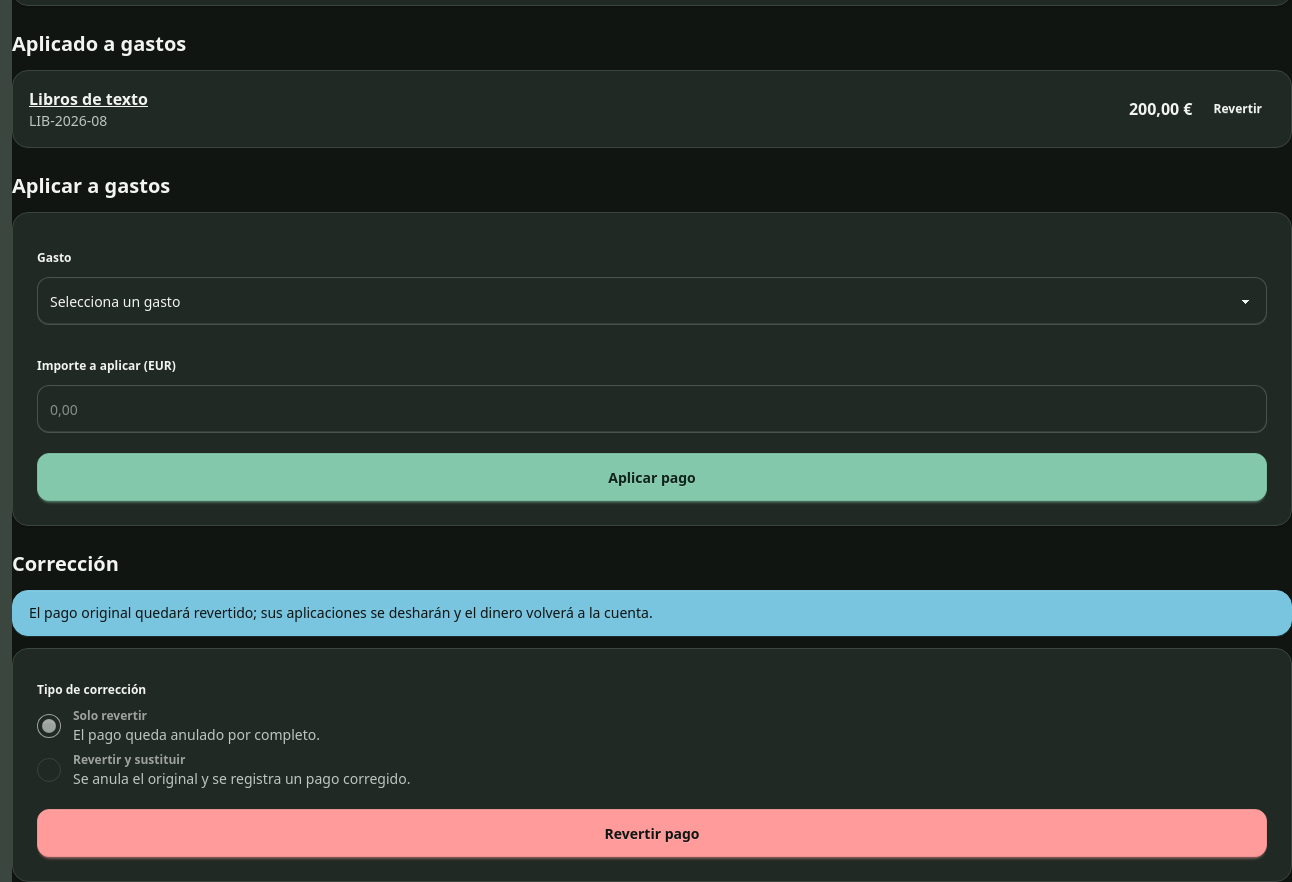
Test case: PaymentDetailPage › reveals account, date, and amount inputs in replace mode
(page scrolled)
Check: the field labelled "Cuenta del pago" is not shown
Check: the field labelled "Fecha del pago" is not shown
Click the radio button labelled "Revertir y sustituir" at coordinates (49, 770), box top-left (37, 758), bottom-right (61, 782)
(page scrolled)
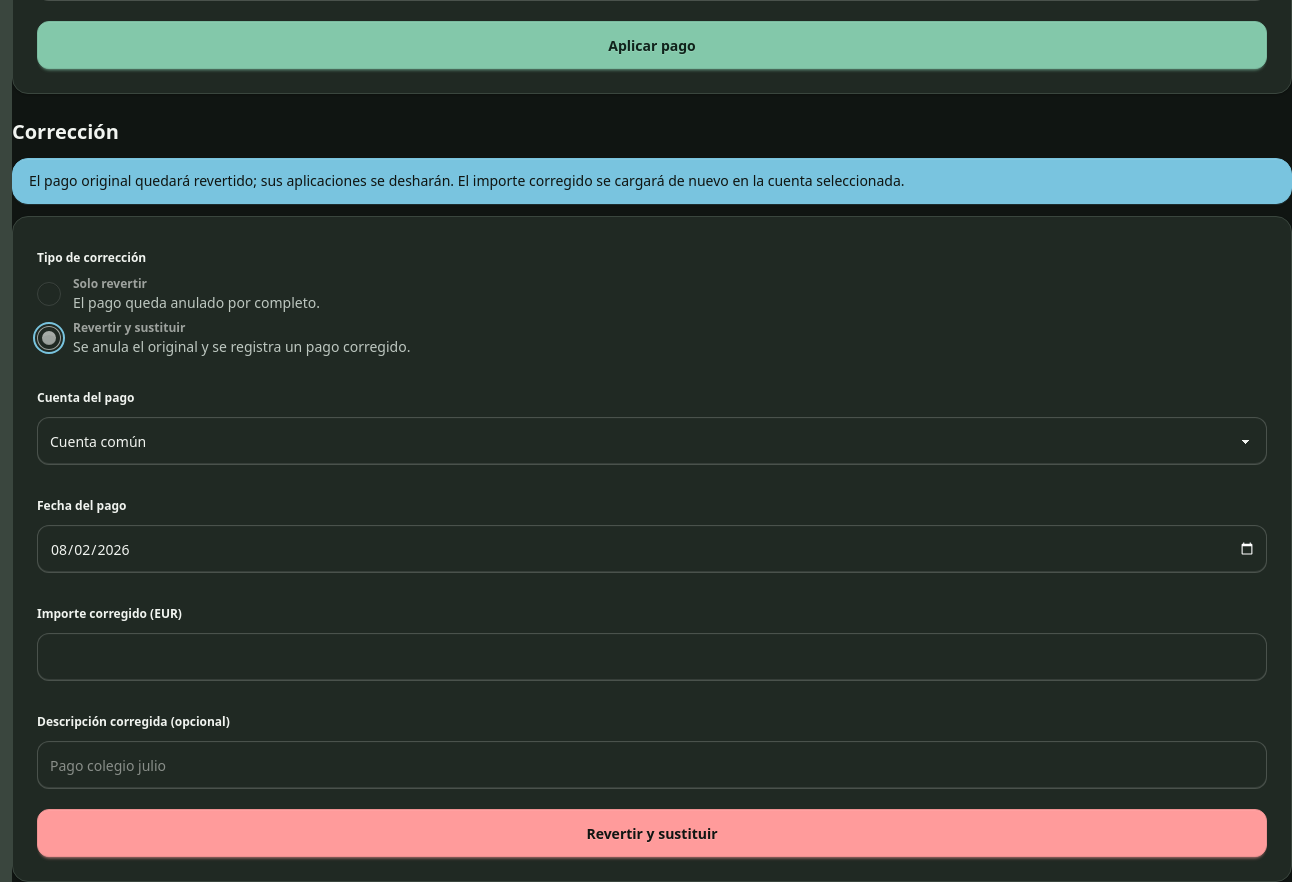
Check: the dropdown labelled "Cuenta del pago" is shown, box top-left (37, 417), bottom-right (1267, 465)
Check: the date field labelled "Fecha del pago" is shown, box top-left (37, 525), bottom-right (1267, 573)
Check: the field labelled "Importe corregido (EUR)" is shown, box top-left (37, 633), bottom-right (1267, 681)
